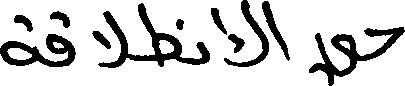X: (139, 0, 182, 71), (226, 0, 268, 71), (311, 28, 355, 85), (94, 6, 126, 72), (0, 10, 35, 70), (48, 6, 72, 71), (367, 22, 404, 64), (270, 4, 289, 65), (198, 37, 207, 69)
